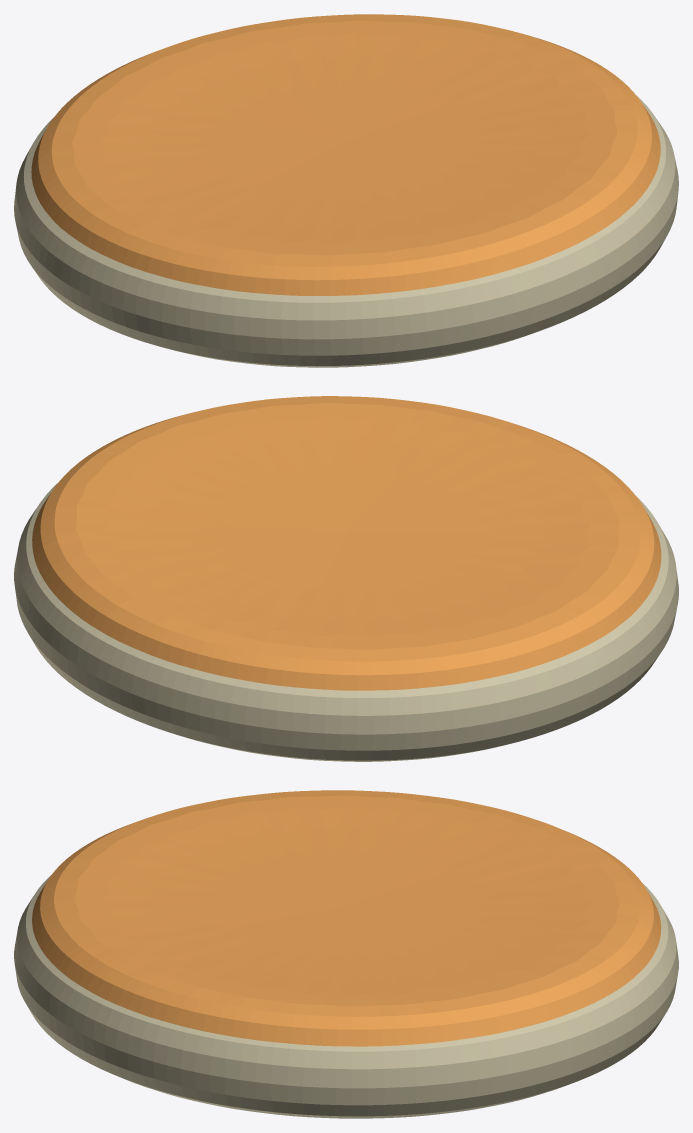
File: Pancakies.fbx
The picture shows the model from 3 angles, top to bottom: view 1: azimuth 30°, elevation 25°; view 2: azimuth 150°, elevation 25°; view 3: azimuth 270°, elevation 25°; orthographic projection.
Visible parts, largest first — view 1: Cylinder.001, Cylinder; view 2: Cylinder.001, Cylinder; view 3: Cylinder.001, Cylinder.
Boxes of the visible parts, x1,y1,x2,y2 form: Cylinder.001: (31, 14, 660, 295); Cylinder: (14, 95, 678, 367); Cylinder.001: (32, 396, 661, 690); Cylinder: (14, 482, 678, 761); Cylinder.001: (32, 790, 661, 1046); Cylinder: (14, 875, 678, 1118).
Bounding box in the file's own units: 471 × 95.4 × 471.
